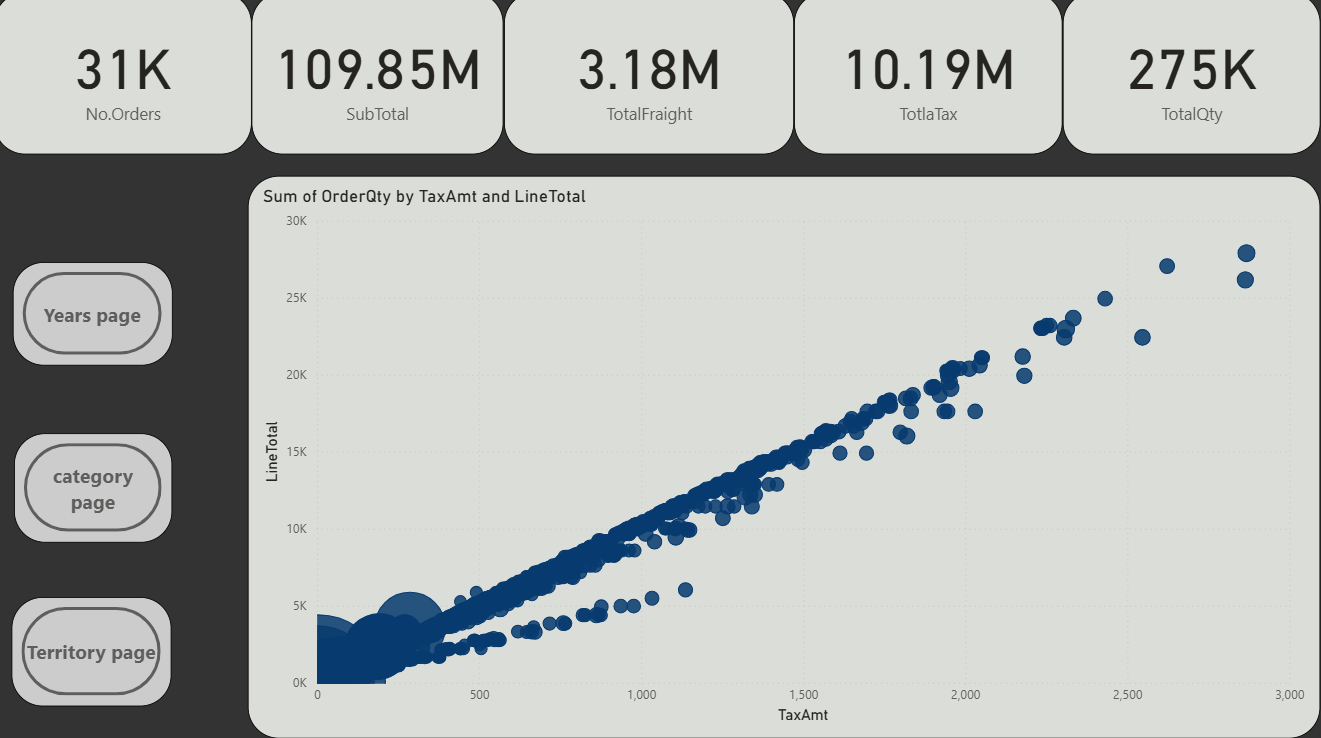

This screenshot's page, from the dashboard's own definition file:
{"tool":"powerbi","page":{"name":"correlation tax -line totoal","canvas":[1280,720],"ordinal":3},"visuals":[{"type":"scatterChart","fields":{"X":["vw_FactOrderDetails.TaxAmt"],"Y":["vw_FactOrderDetails.LineTotal"],"Size":["Sum(vw_FactOrderDetails.OrderQty)"]},"box":[244.9,177.3,1035.1,542.9],"z":0},{"type":"card","fields":{"Values":["measuresTable.No.Orders"]},"box":[0,0,248.9,156.4],"z":1},{"type":"card","fields":{"Values":["measuresTable.SubTotal"]},"box":[248.9,0,243.2,156.4],"z":2},{"type":"card","fields":{"Values":["measuresTable.TotalFraight"]},"box":[492.1,0,280.2,156.4],"z":3},{"type":"card","fields":{"Values":["measuresTable.TotlaTax"]},"box":[772.3,0,258.8,156.4],"z":4},{"type":"card","fields":{"Values":["measuresTable.TotalQty"]},"box":[1031.1,0,248.9,156.4],"z":5},{"type":"actionButton","box":[18.1,260.9,154,99.7],"z":6},{"type":"actionButton","box":[18.8,425.6,152.9,105.3],"z":7},{"type":"actionButton","box":[17.3,584.3,154.4,105.3],"z":9}]}

Visuals, with their boxes in screenshot pixels (x1, y1, x2, y2), scaled from the page's 1280x720 canvas onto the 1321x738 screenshot:
scatterChart - vw_FactOrderDetails.TaxAmt x vw_FactOrderDetails.LineTotal: locate(253, 182, 1320, 737)
card - measuresTable.No.Orders: locate(0, 0, 257, 160)
card - measuresTable.SubTotal: locate(257, 0, 508, 160)
card - measuresTable.TotalFraight: locate(508, 0, 797, 160)
card - measuresTable.TotlaTax: locate(797, 0, 1064, 160)
card - measuresTable.TotalQty: locate(1064, 0, 1320, 160)
actionButton: locate(19, 267, 178, 370)
actionButton: locate(19, 436, 177, 544)
actionButton: locate(18, 599, 177, 707)
